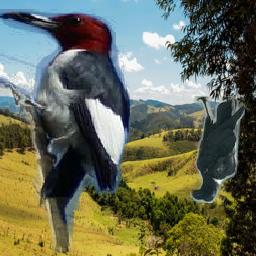Crow: (191, 97, 246, 204)
Woodpecker: (0, 9, 130, 253)
